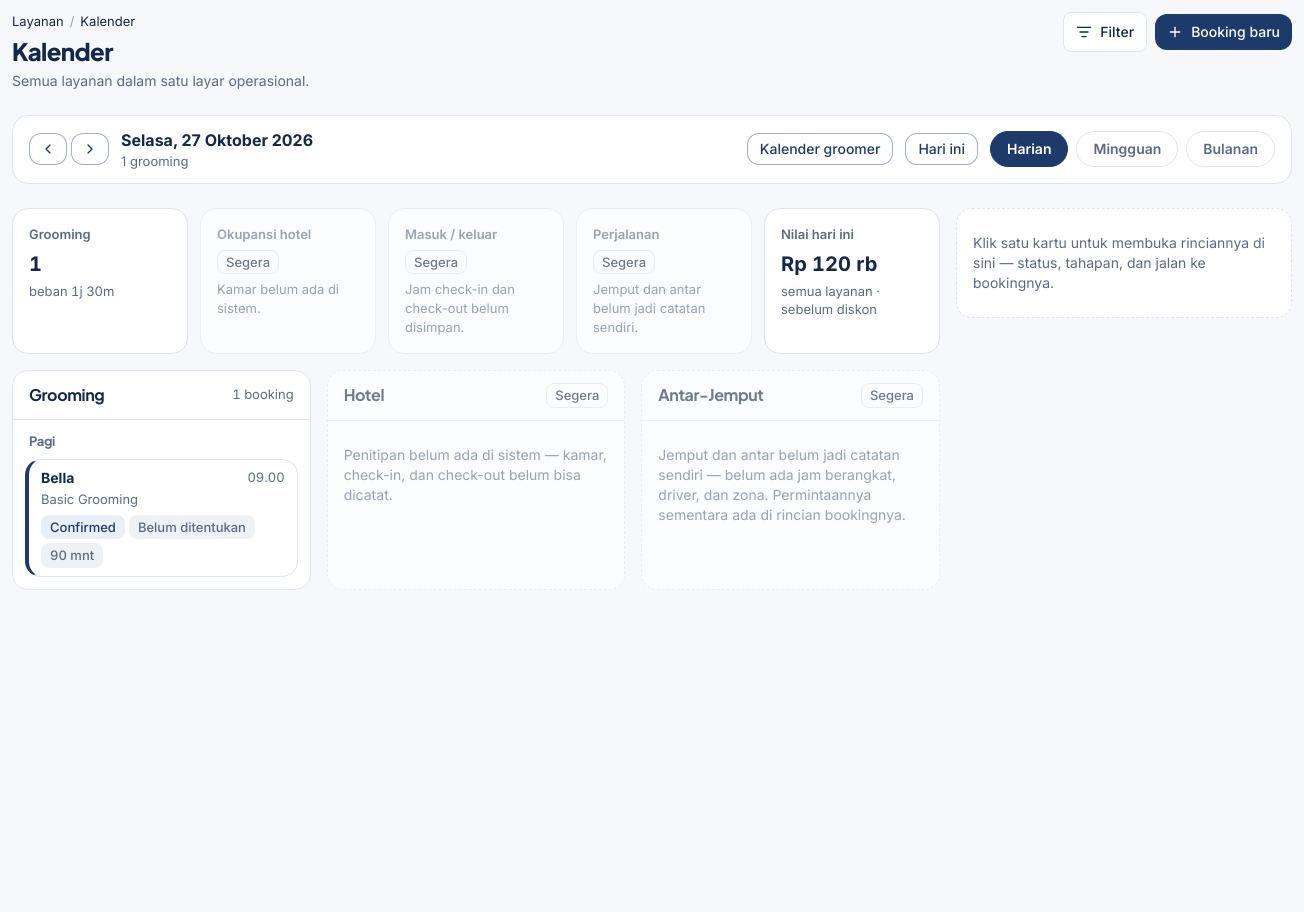
Test: Hari Ini › opens the day somebody clicks in the monthly view
This screenshot has width=1304, height=912.
Expected: the element "Grooming" is shown, [12,370,311,590]
Step 1. Click the button "Bulanan" → click(1231, 149), box [1186,131,1275,167]
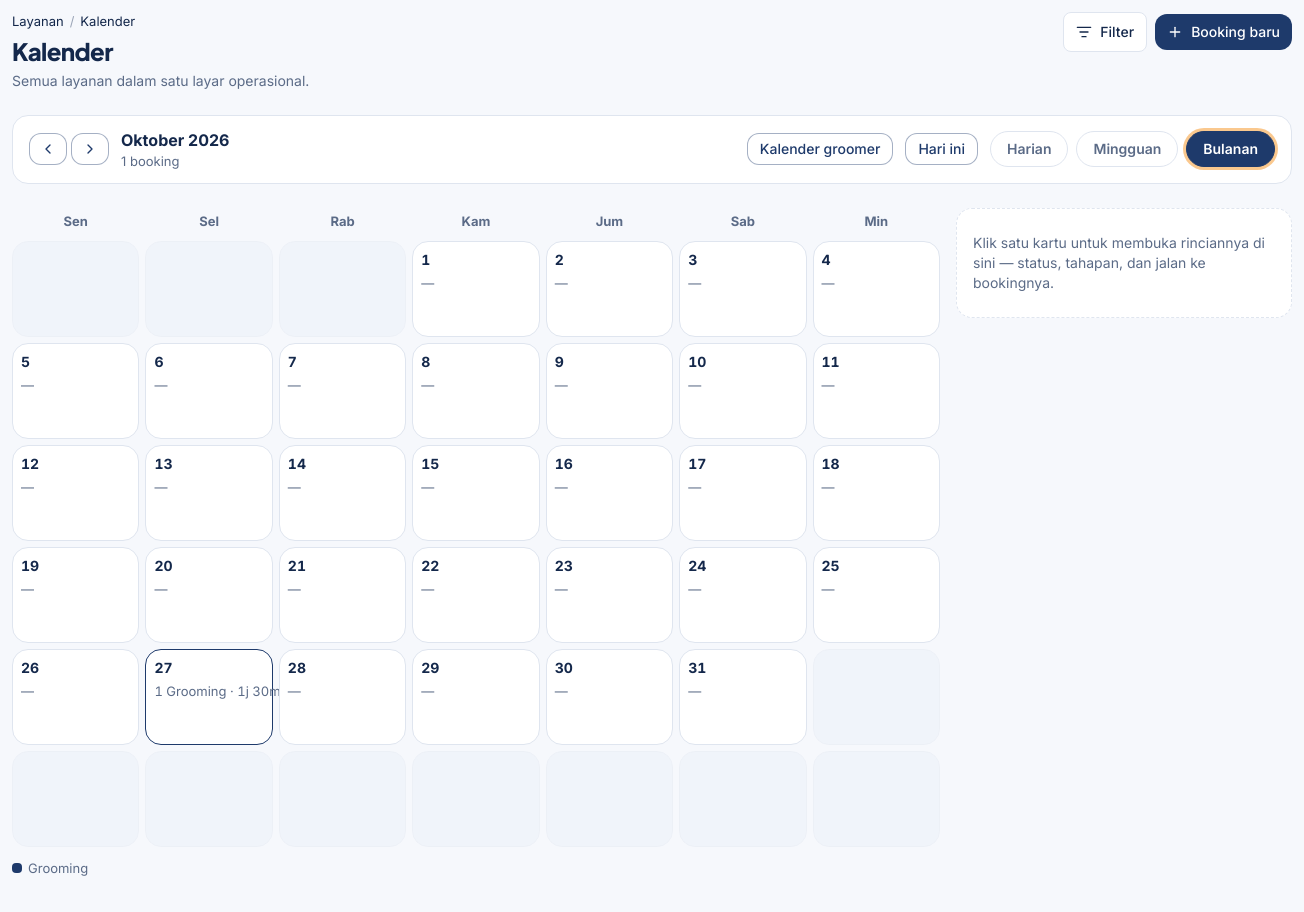
Step 2. Click the button "27 1 Grooming · 1j 30m" → click(209, 696), box [145,648,273,744]
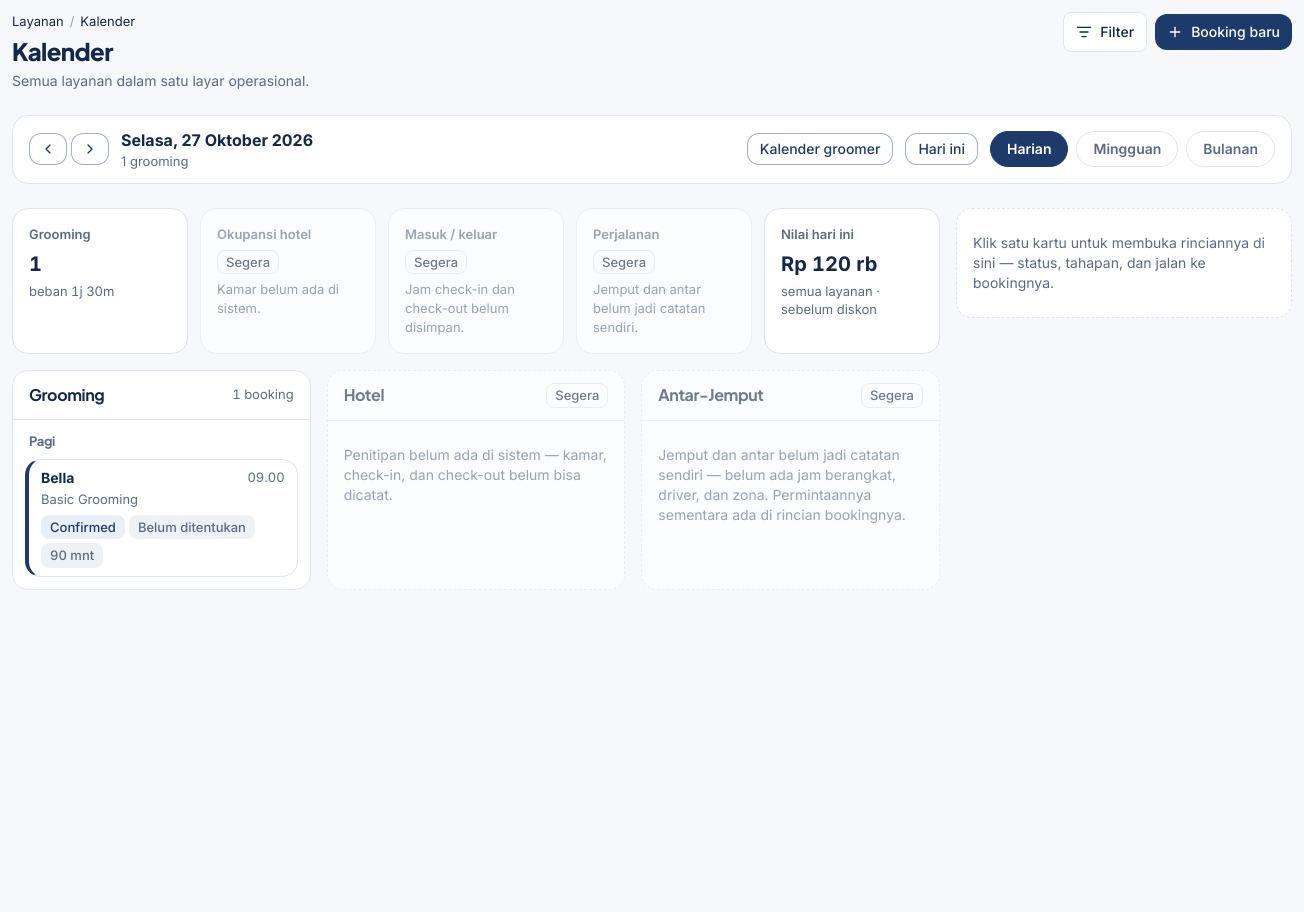
Expected: the element "Grooming" is shown, [12,370,311,590]
